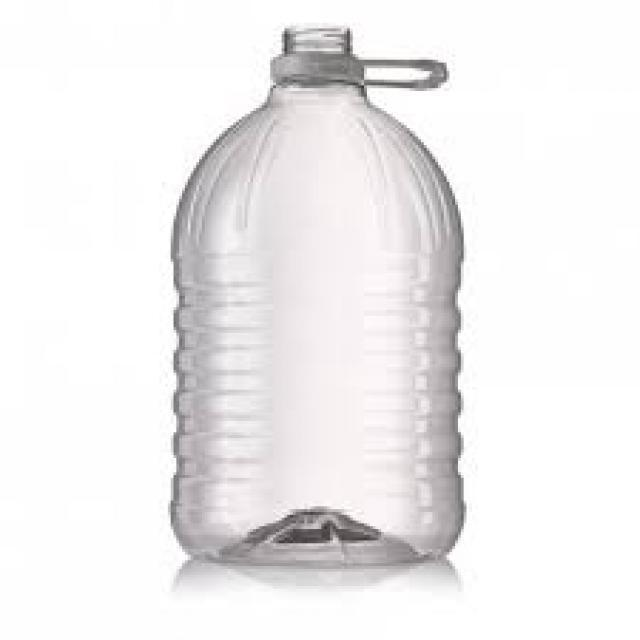Plastic: (174, 20, 462, 572)
